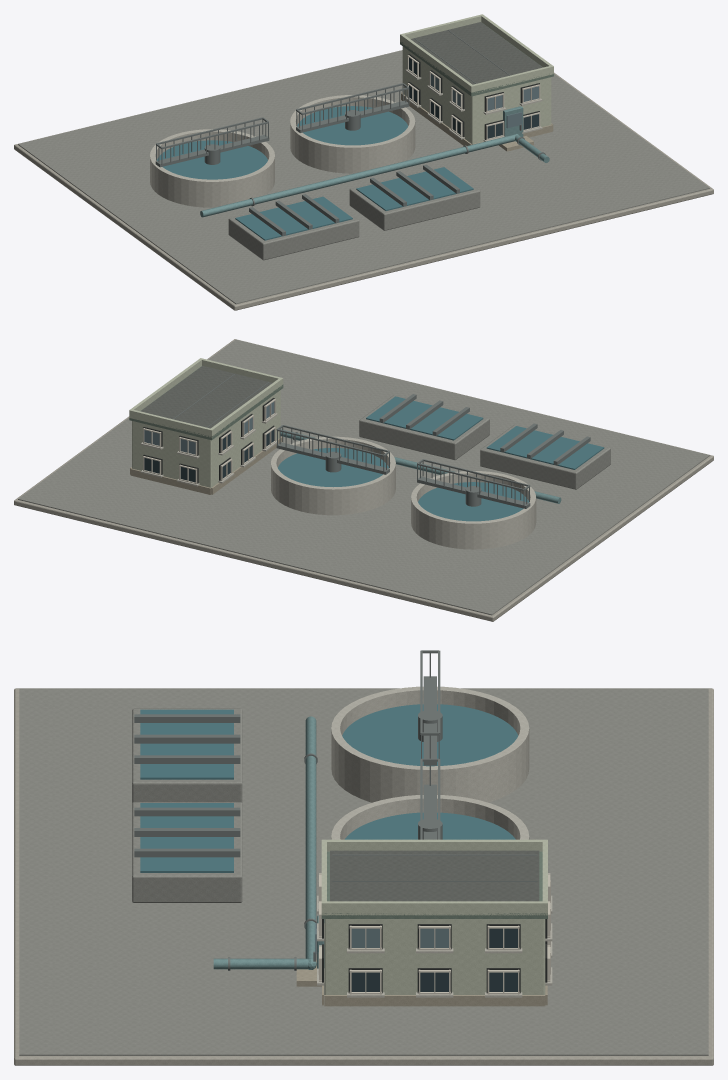
The model's file is EXP_WATER_TREATMENT.glb.
The picture shows the model from 3 angles, top to bottom: view 1: azimuth 30°, elevation 25°; view 2: azimuth 150°, elevation 25°; view 3: azimuth 270°, elevation 25°; orthographic projection. The views are drawn at different scales.
Parts seen in each view (by area): view 1: EXP_WATER_TREATMENT_Visual; view 2: EXP_WATER_TREATMENT_Visual; view 3: EXP_WATER_TREATMENT_Visual.
Boxes of the visible parts, bbox=[...] form: EXP_WATER_TREATMENT_Visual: bbox=[14, 14, 713, 310]; EXP_WATER_TREATMENT_Visual: bbox=[14, 339, 713, 621]; EXP_WATER_TREATMENT_Visual: bbox=[14, 650, 713, 1065].
Size of what is drawn, in the model's own units: 9.92 by 1.43 by 7.92.
Materials: 14 (8 with a texture image).
